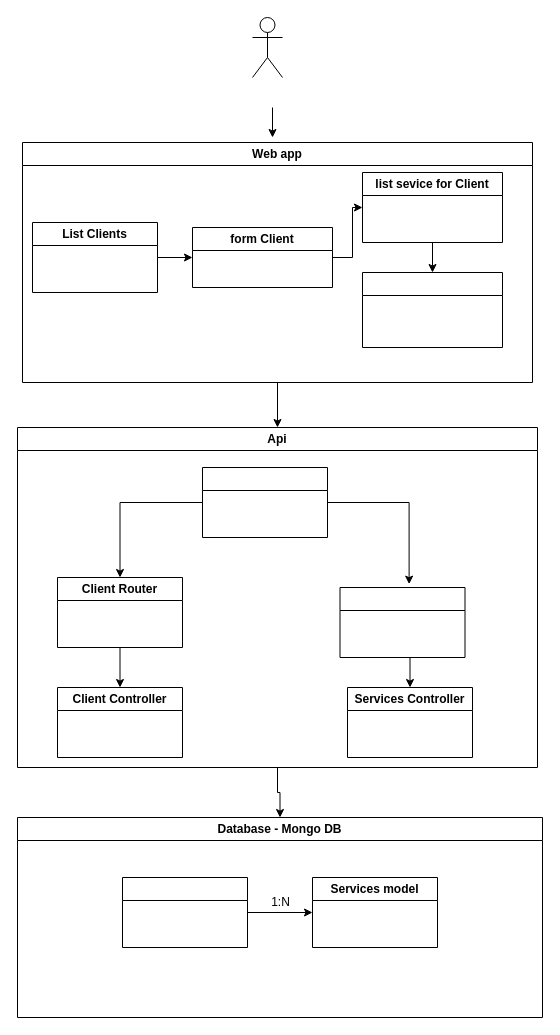
The diagram is 560 pixels wide and 1035 high, and some of its shapes have lost their labels. The centre of each missing label's shape, as x and y in pixels:
"Client model" goes at point 185,912.
"form sevice for Client" goes at point 432,310.
"Server" goes at point 265,502.
"Service Router" goes at point 402,622.
"Usuario" goes at point 267,47.
